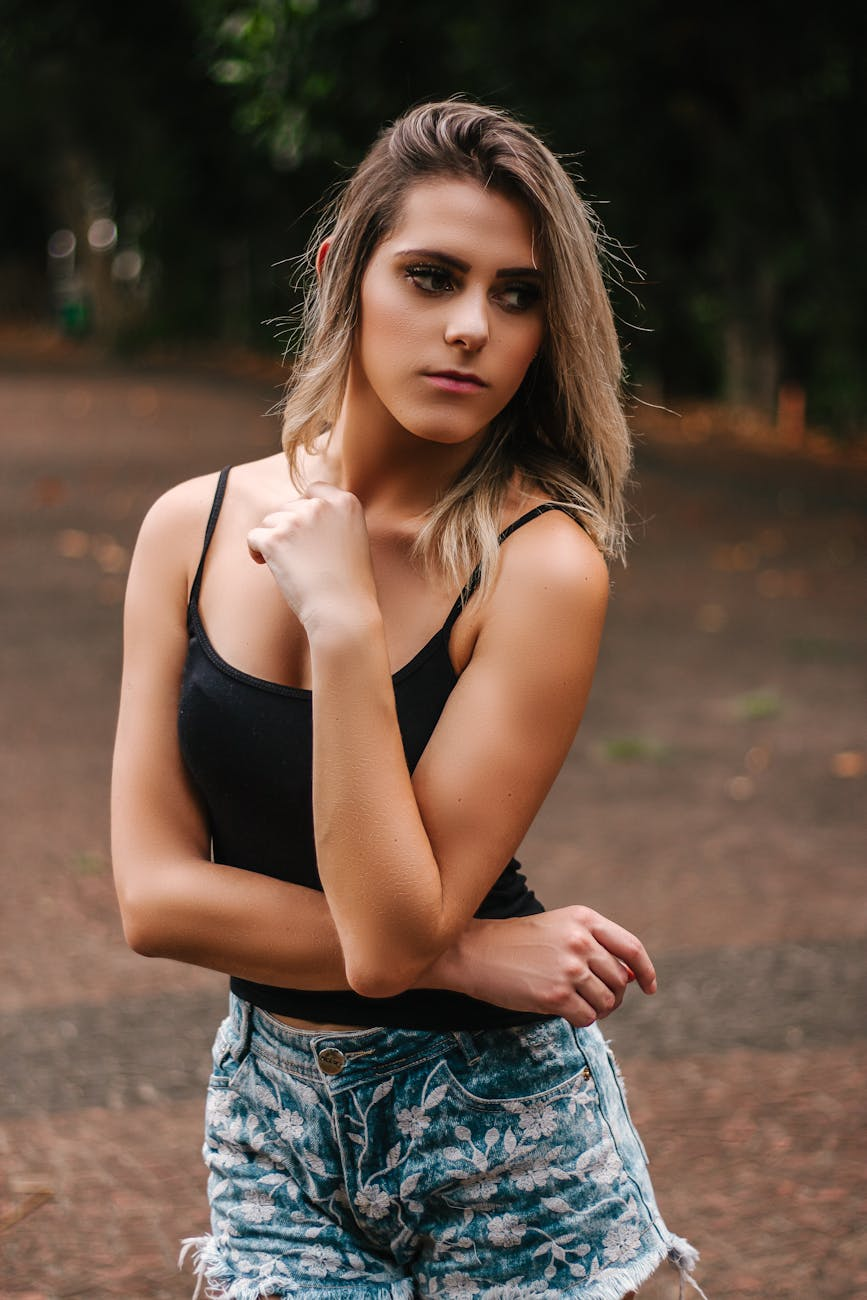shorts: (173, 987, 688, 1299)
sleeveless_top: (167, 457, 527, 914)
